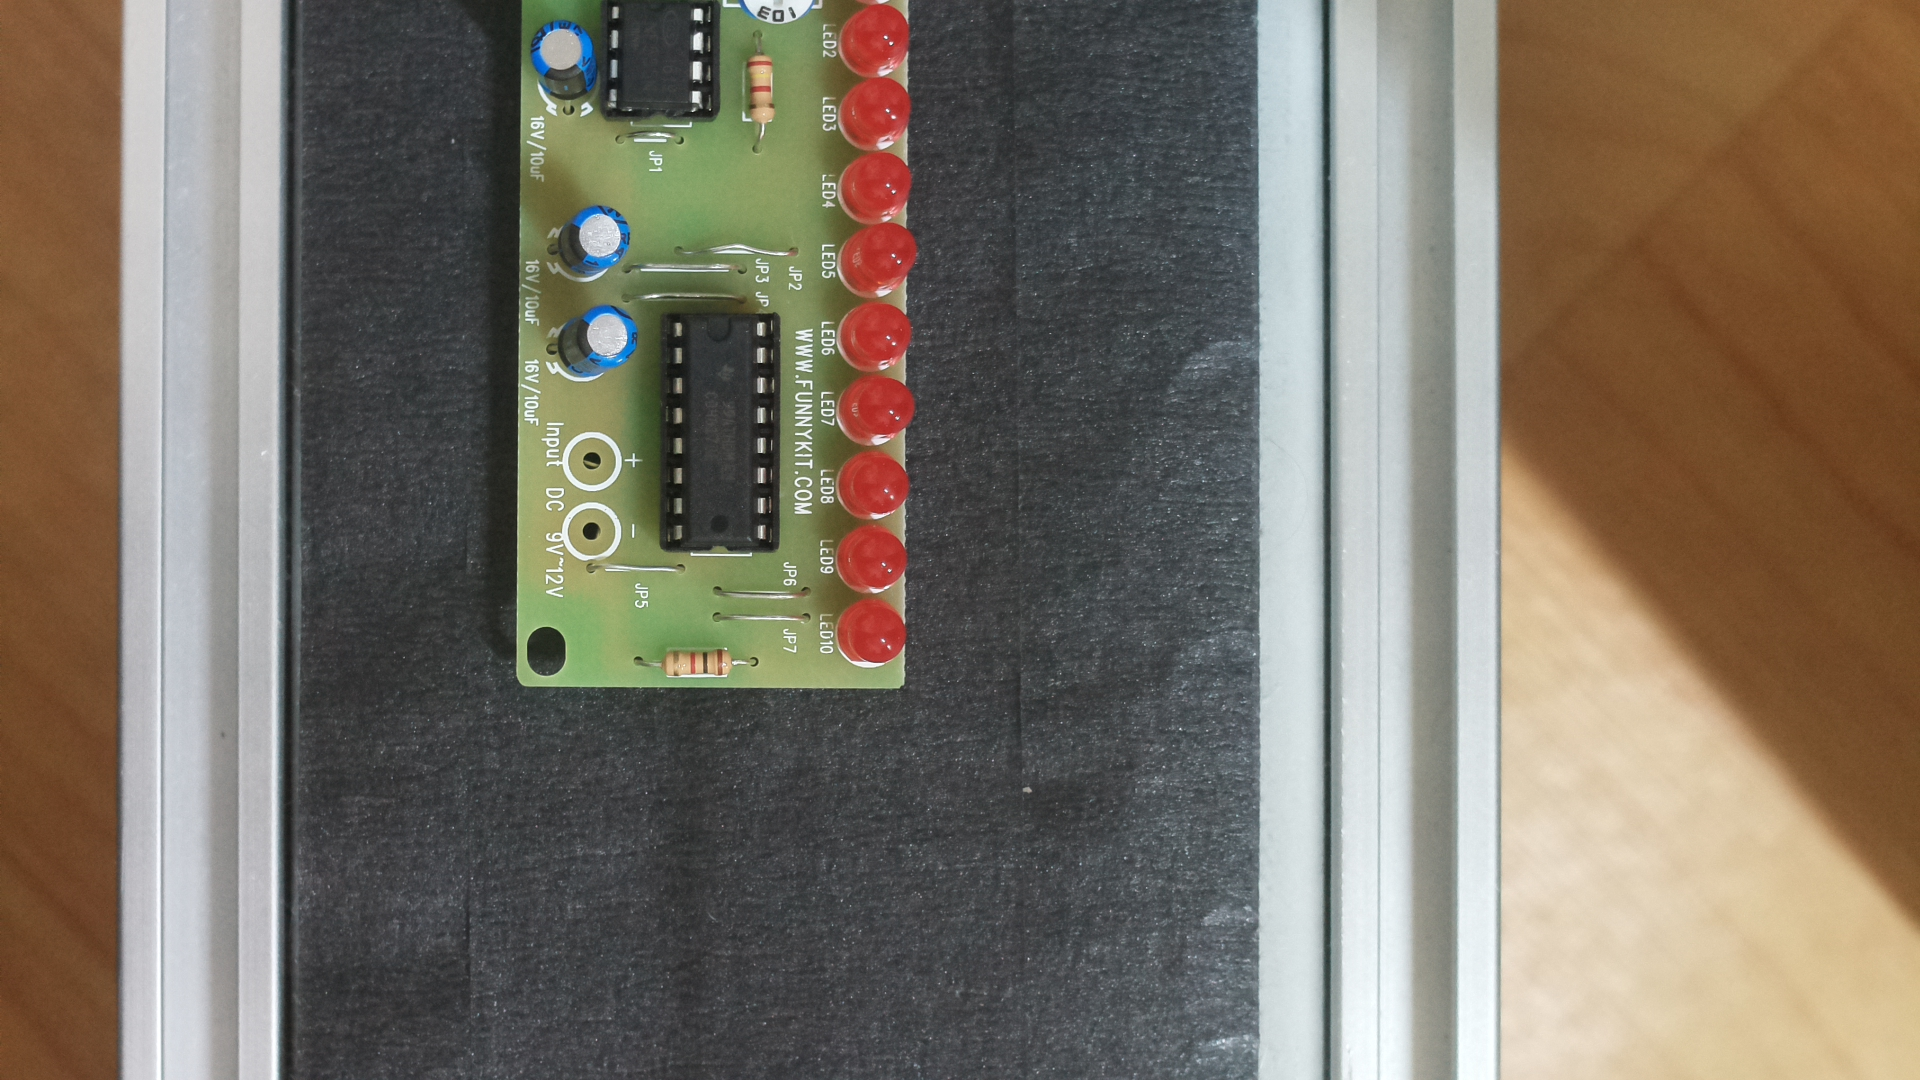B_Normal: (509, 3, 919, 712)
